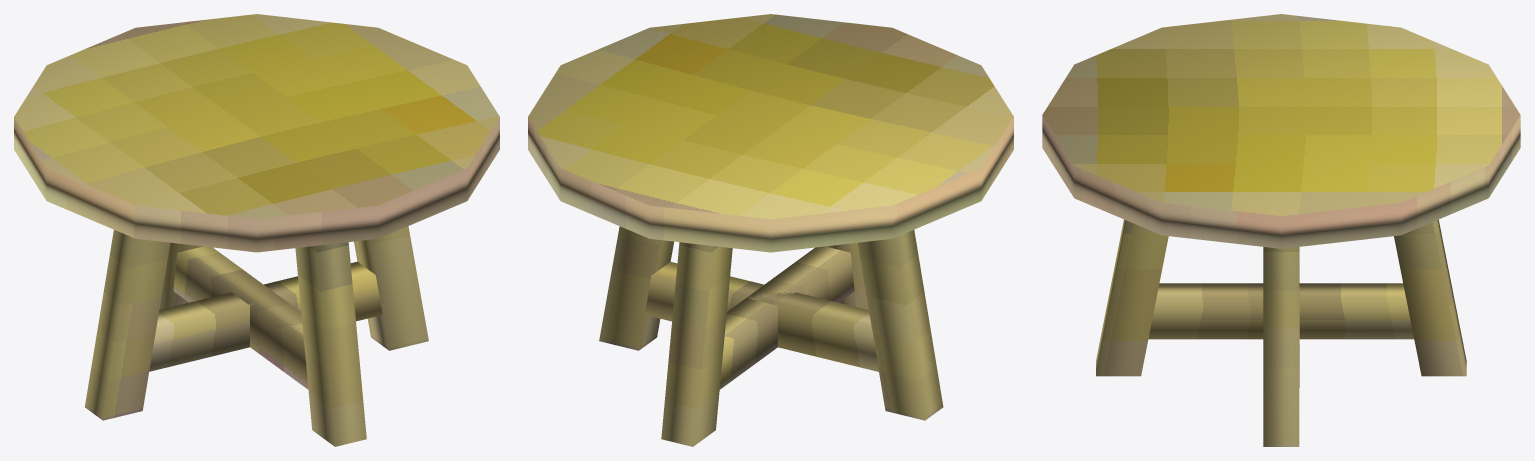
File: objects_un_plan_chair01_yellow.gltf
3 renders of one model, left to right at view 1: azimuth 30°, elevation 25°; view 2: azimuth 150°, elevation 25°; view 3: azimuth 270°, elevation 25°, orthographic.
Visible parts, largest first — view 1: objects_un_plan_chair01_yellow_mesh_shape:objects_un_chair01; view 2: objects_un_plan_chair01_yellow_mesh_shape:objects_un_chair01; view 3: objects_un_plan_chair01_yellow_mesh_shape:objects_un_chair01.
Part boxes in pixels (x1=…): objects_un_plan_chair01_yellow_mesh_shape:objects_un_chair01: x1=14, y1=14, x2=499, y2=446; objects_un_plan_chair01_yellow_mesh_shape:objects_un_chair01: x1=528, y1=14, x2=1013, y2=446; objects_un_plan_chair01_yellow_mesh_shape:objects_un_chair01: x1=1042, y1=14, x2=1520, y2=446.
Bounding box in the file's own units: 0.53 × 0.31 × 0.53.
Materials: 1 (1 with a texture image).
